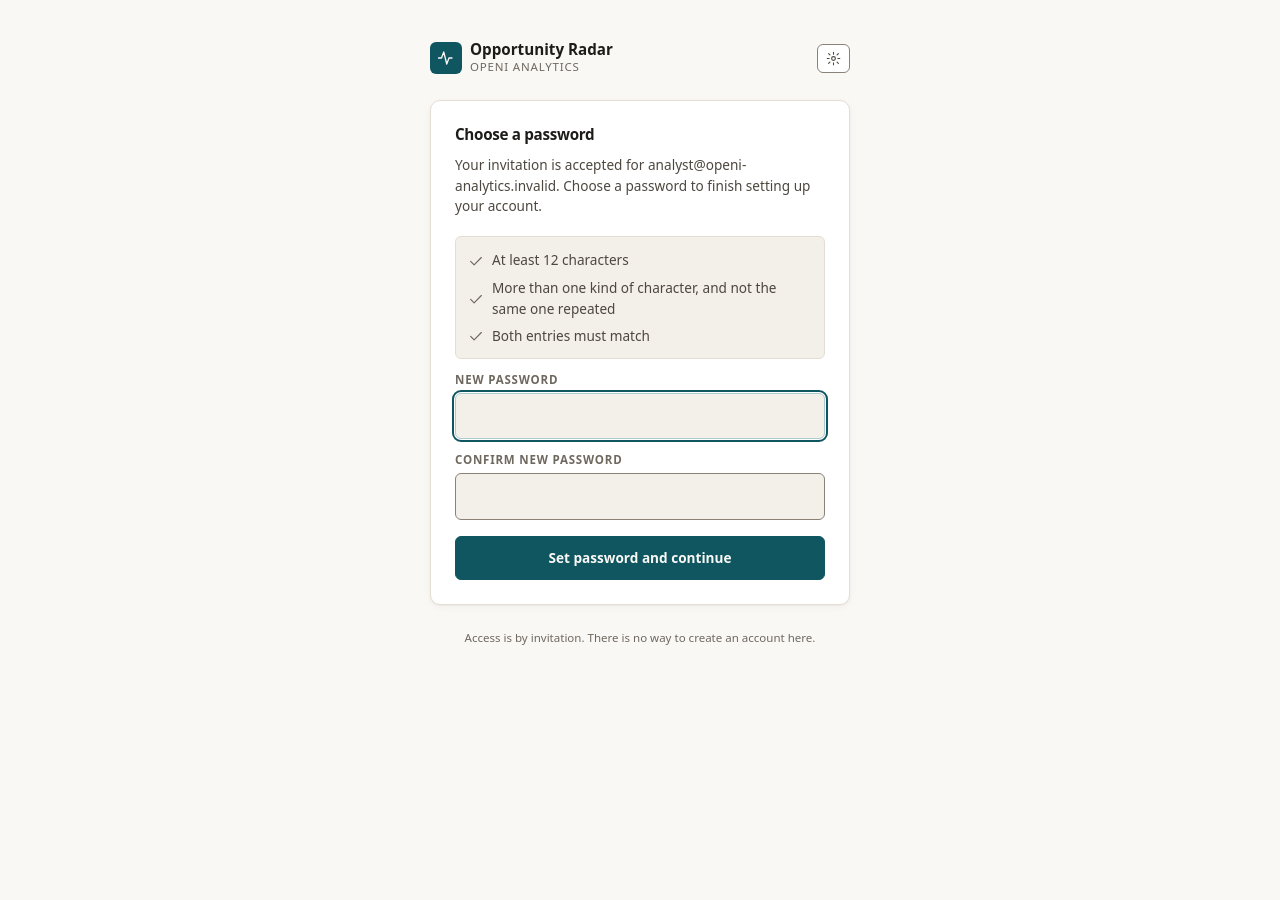
Test case: choosing a password › sets the password and enters the application
The image size is (1280, 900).
Expected: the heading "Choose a password" is shown, [455,124,594,144]
Type "correct-horse-battery-9" into the password field labelled "New password". click: (640, 416)
box: [455,393,825,439]
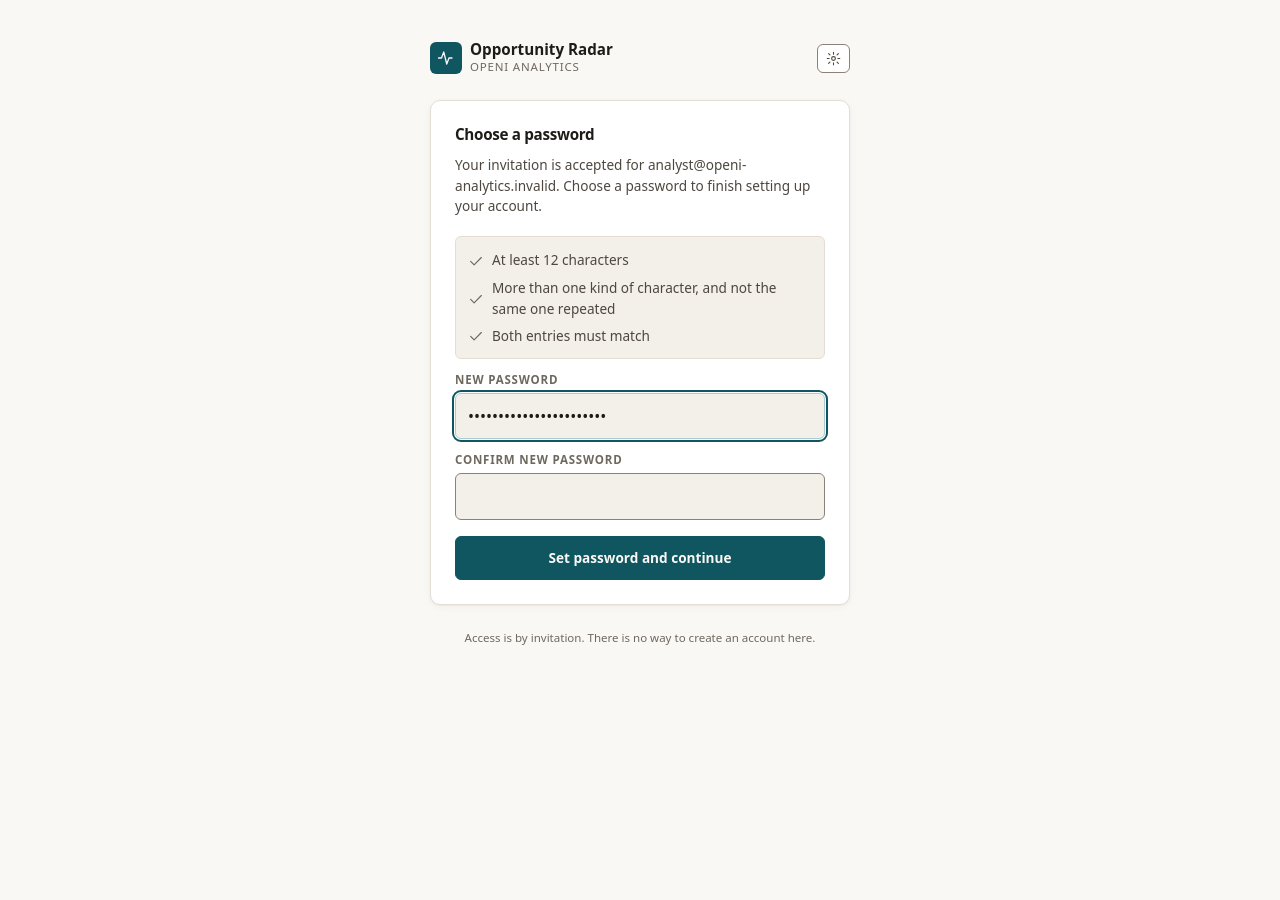
Type "correct-horse-battery-9" into the password field labelled "Confirm new password". click: (640, 497)
box: [455,473,825,520]
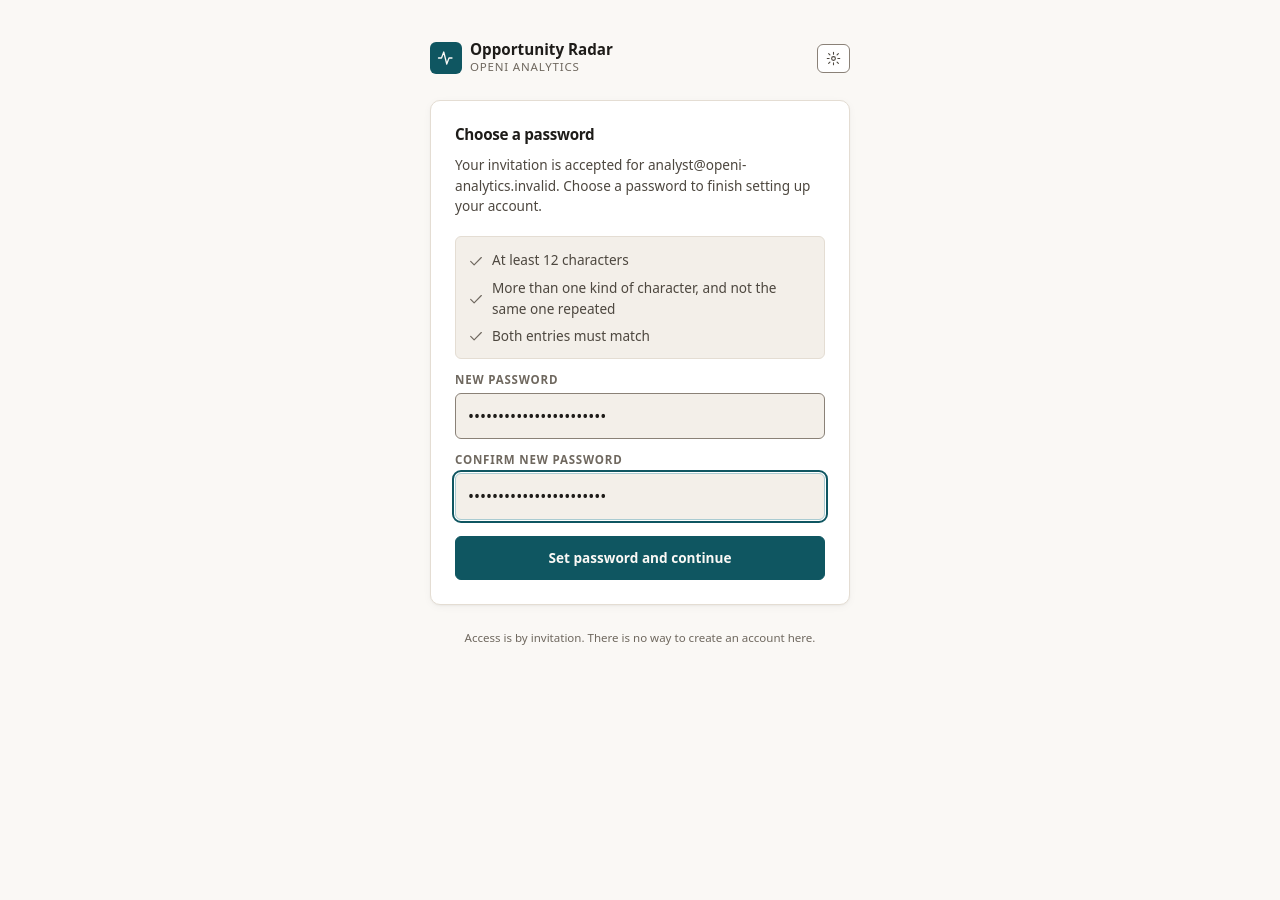
Click the button "Set password and continue". click: (640, 558)
box: [455,536,825,580]
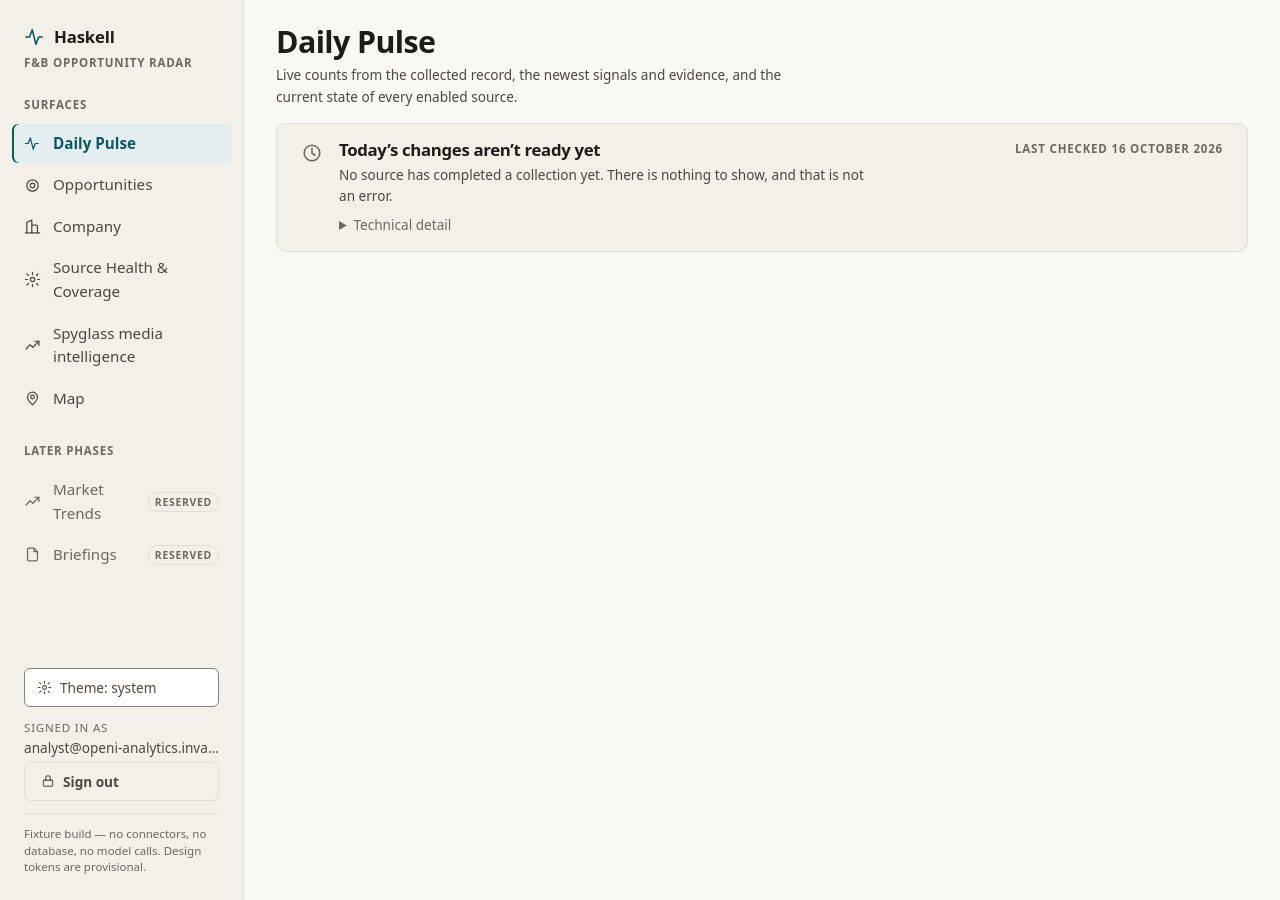
Expected: the navigation bar named "Primary" is shown, [0,0,244,899]
